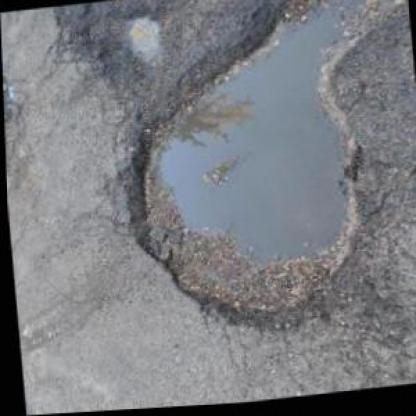pothole: (102, 22, 374, 350)
